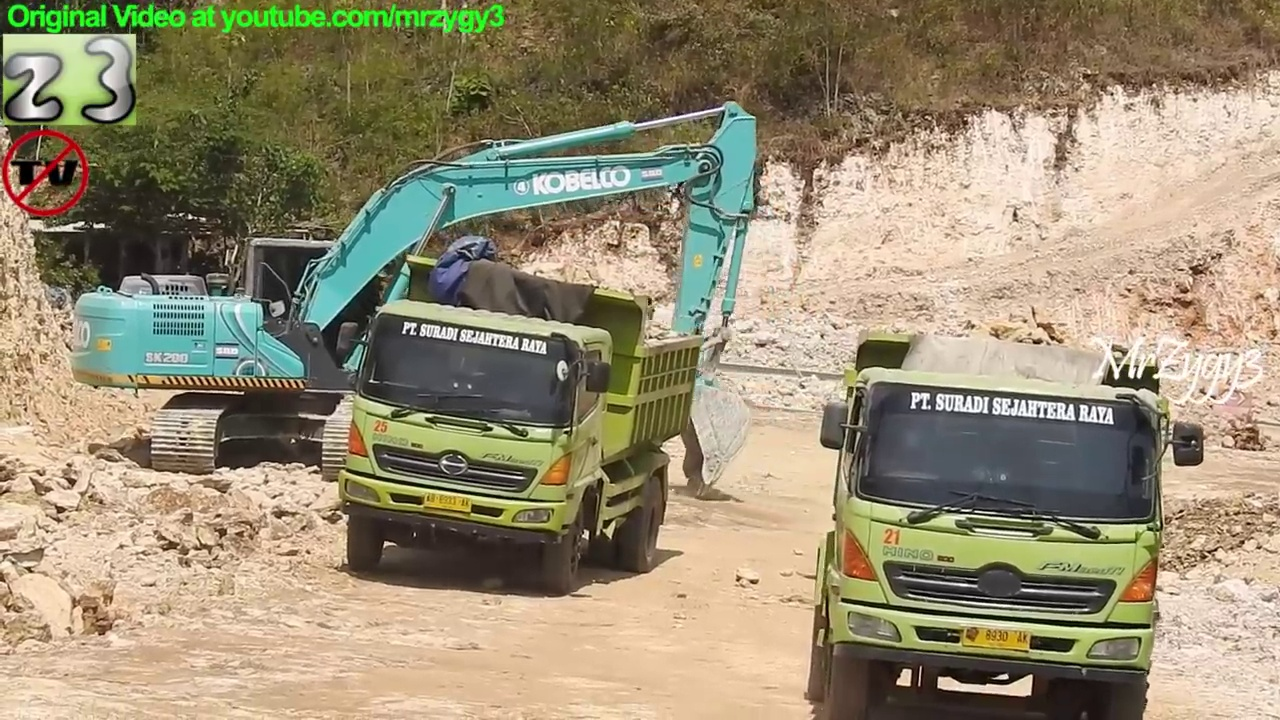excavator: (65, 93, 761, 506)
truck: (803, 321, 1210, 720), (331, 248, 722, 603)
